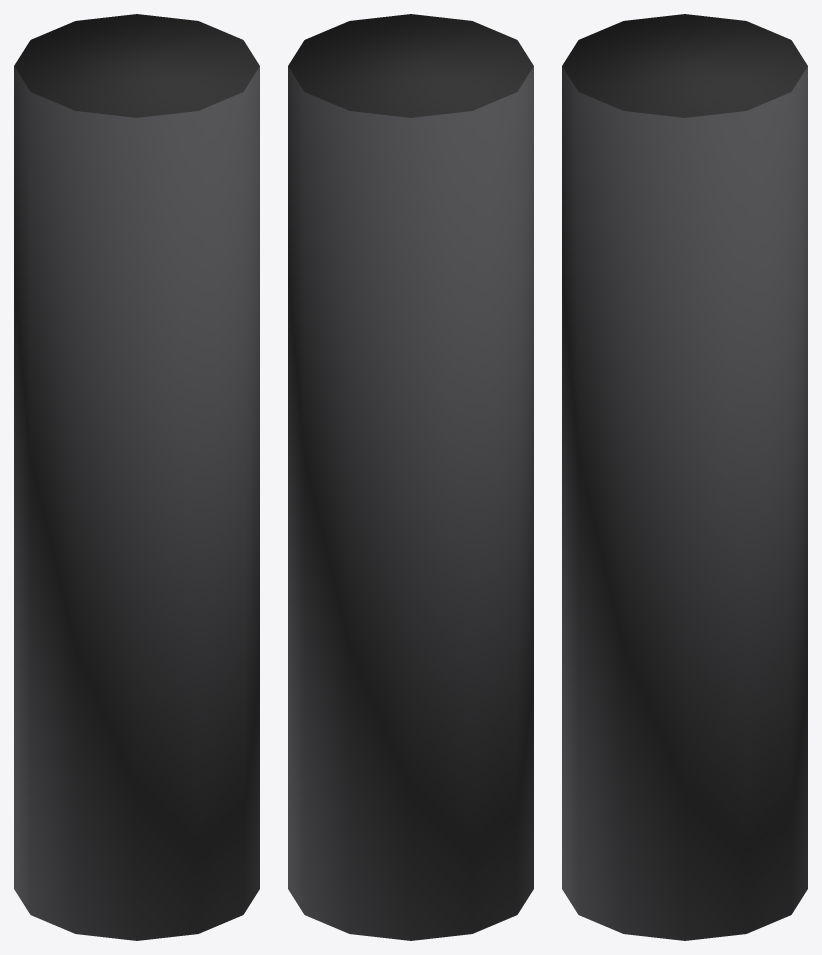
File: Furnace 5 Pipe.glb
3 views of the same model, side by side, from view 1: azimuth 30°, elevation 25°; view 2: azimuth 150°, elevation 25°; view 3: azimuth 270°, elevation 25° (orthographic).
Visible parts, largest first — view 1: Furnace 5 Pipe; view 2: Furnace 5 Pipe; view 3: Furnace 5 Pipe.
Part boxes in pixels (bbox=[...]): Furnace 5 Pipe: bbox=[14, 14, 259, 940]; Furnace 5 Pipe: bbox=[288, 14, 533, 940]; Furnace 5 Pipe: bbox=[562, 14, 807, 940].
Size of what is drawn, in the model's own units: 0.4075 by 1.5 by 0.4075.
1 material, 1 textured.
